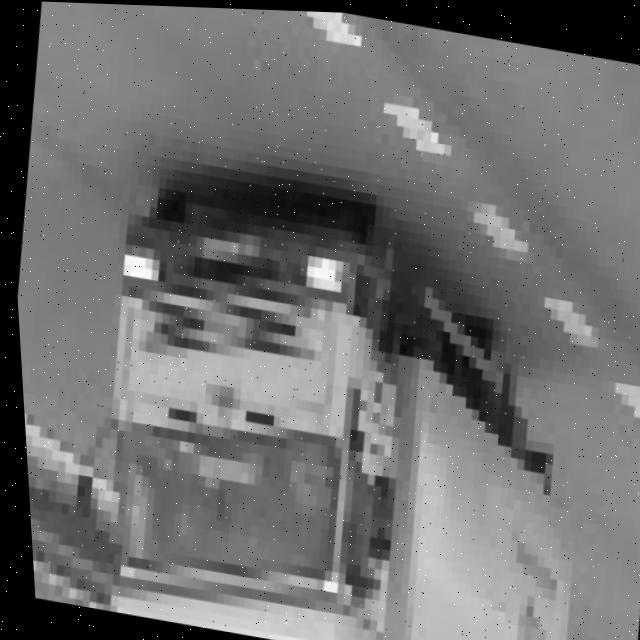truck: (27, 171, 463, 640)
